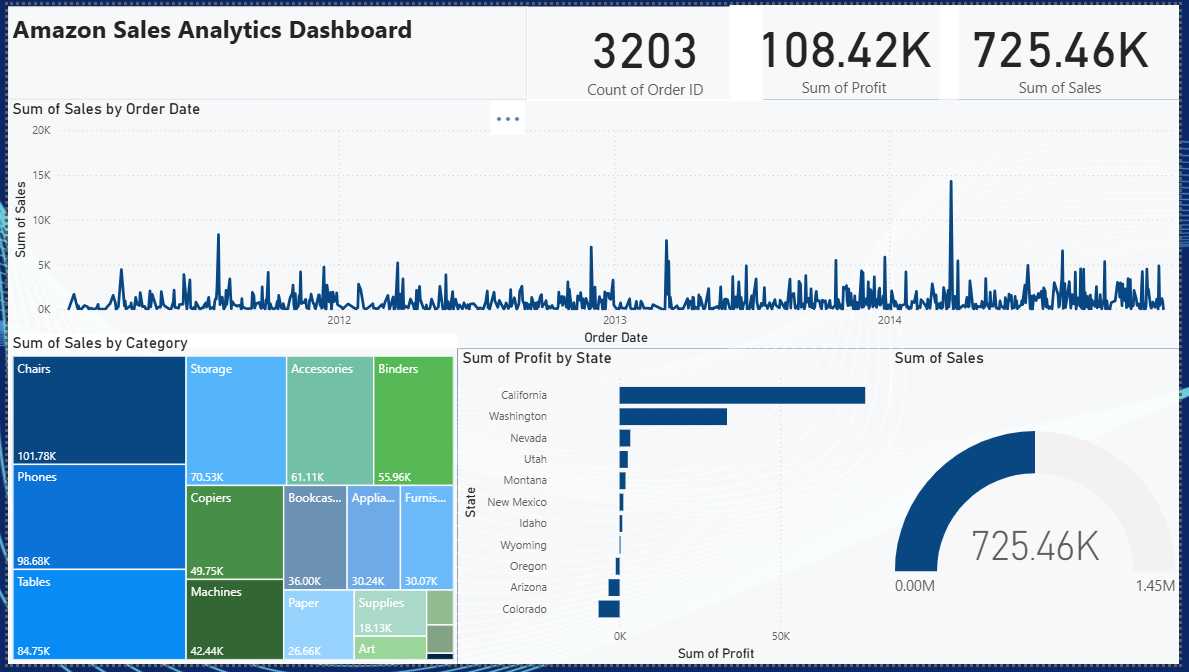

The page's visual inventory and layout, read from the dashboard file:
{"tool":"powerbi","page":{"name":"Page 1","canvas":[1280,720],"ordinal":0},"visuals":[{"type":"card","fields":{"Values":["Sum(Walmart (2).Sales)"]},"box":[1018,0,262.5,103.4],"z":0},{"type":"card","fields":{"Values":["Sum(Walmart (2).Profit)"]},"box":[788.9,0,249.7,103.4],"z":1000},{"type":"card","fields":{"Values":["CountNonNull(Walmart (2).Order ID)"]},"box":[567.8,1.6,257.7,103.4],"z":2000},{"type":"lineChart","fields":{"Category":["Walmart (2).Order Date"],"Y":["Sum(Walmart (2).Sales)"]},"box":[0,103.4,1280.4,272],"z":3000},{"type":"treemap","fields":{"Group":["Walmart (2).Category"],"Values":["Sum(Walmart (2).Sales)"]},"box":[0,359.5,491.5,361.1],"z":4000},{"type":"clusteredBarChart","fields":{"Category":["Walmart (2).State"],"Y":["Sum(Walmart (2).Profit)"]},"box":[491.5,375.4,472.4,345.2],"z":5000},{"type":"gauge","fields":{"Y":["Sum(Walmart (2).Sales)"]},"box":[963.9,375.4,316.5,345.2],"z":6000},{"type":"textbox","box":[0,1.6,567.8,101.8],"z":7000}]}

Visuals, with their boxes in screenshot pixels (x1, y1, x2, y2), scaled from the page's 1280x720 canvas onto the 1189x672 screenshot:
card - Sum(Walmart (2).Sales): locate(946, 0, 1188, 97)
card - Sum(Walmart (2).Profit): locate(733, 0, 965, 97)
card - CountNonNull(Walmart (2).Order ID): locate(527, 1, 767, 98)
lineChart - Walmart (2).Order Date x Sum(Walmart (2).Sales): locate(0, 97, 1188, 350)
treemap - Walmart (2).Category x Sum(Walmart (2).Sales): locate(0, 336, 457, 671)
clusteredBarChart - Walmart (2).State x Sum(Walmart (2).Profit): locate(457, 350, 895, 671)
gauge - Sum(Walmart (2).Sales): locate(895, 350, 1188, 671)
textbox: locate(0, 1, 527, 97)
